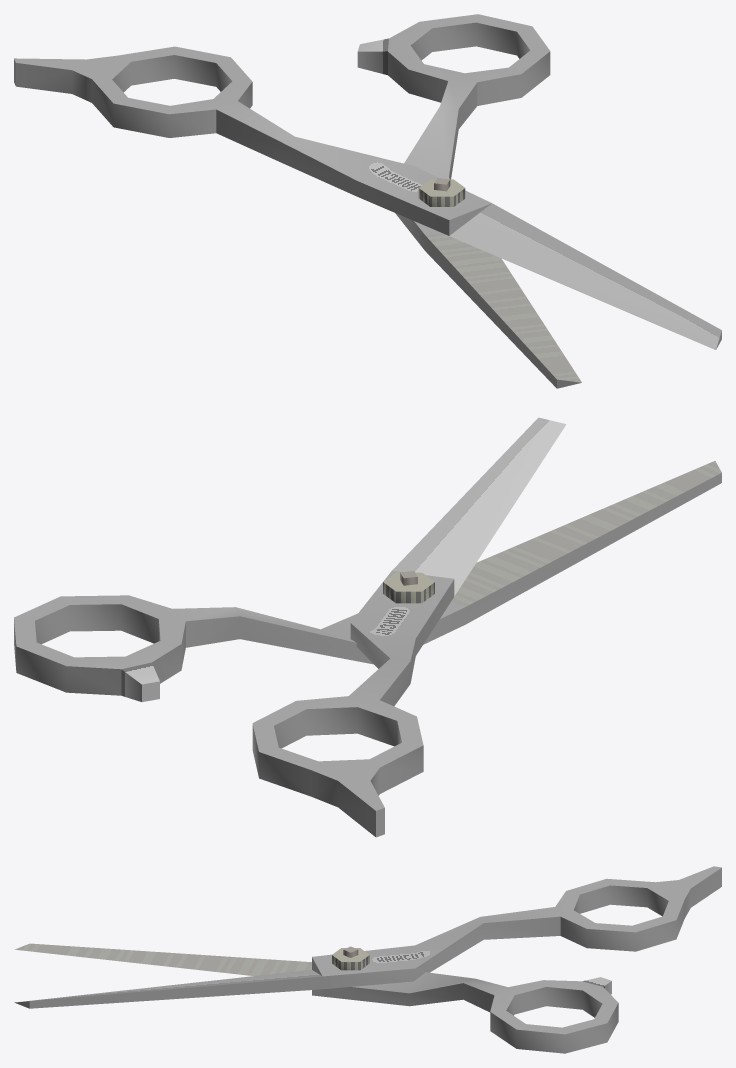
The model's file is 02dc_Scissors.glb.
3 views of the same model, one above another, from view 1: azimuth 30°, elevation 25°; view 2: azimuth 150°, elevation 25°; view 3: azimuth 270°, elevation 25° (orthographic). The views are drawn at different scales.
Visible parts, largest first — view 1: part_0; view 2: part_0; view 3: part_0.
Part boxes in pixels (bbox=[...]): part_0: bbox=[14, 14, 721, 388]; part_0: bbox=[14, 417, 721, 837]; part_0: bbox=[14, 866, 721, 1053].
Bounding box in the file's own units: 0.126 × 0.0169 × 0.2243.
Materials: 1 (1 with a texture image).
